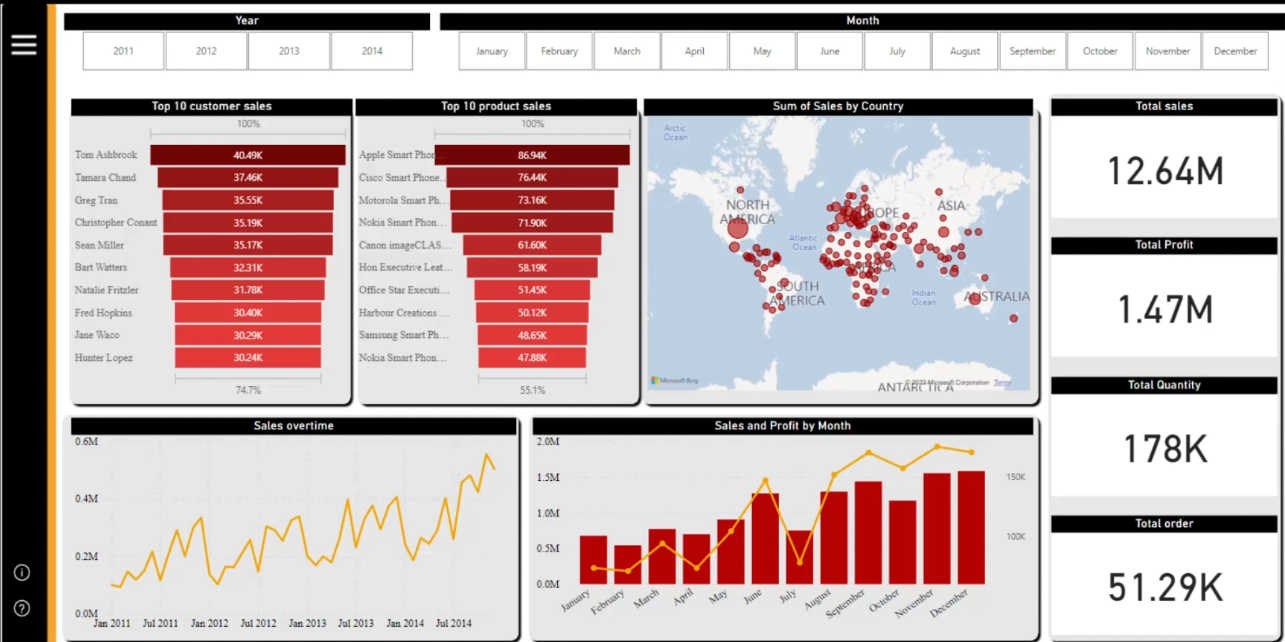

Layout of this report page (visuals, bound fields, positions):
{"tool":"powerbi","page":{"name":"Sales","canvas":[1800,900],"ordinal":0},"visuals":[{"type":"actionButton","box":[427.1,0,1372.9,900],"z":0,"group":"g2"},{"type":"actionButton","title":"Qs","box":[11.7,822,33.2,50.9],"z":0,"group":"g1"},{"type":"shape","box":[74.3,0,352.9,900],"z":1000,"group":"g2"},{"type":"actionButton","title":"Info","box":[11.7,771.1,33.2,50.9],"z":1000,"group":"g1"},{"type":"actionButton","title":"Menu Button","box":[7.1,27.1,47.1,59.5],"z":2000,"group":"g1"},{"type":"actionButton","title":"Product","box":[13.2,394,388.2,61.7],"z":2000,"group":"g2"},{"type":"shape","box":[77.1,568.6,654.3,331.4],"z":2000},{"type":"actionButton","title":"Location","box":[13.2,225.6,388.2,61.7],"z":3000,"group":"g2"},{"type":"shape","box":[731.4,568.6,728.6,331.4],"z":3000},{"type":"shape","box":[890,137.1,570,431.4],"z":4000},{"type":"actionButton","title":"Customer","box":[11.4,309.8,388.2,61.7],"z":4000,"group":"g2"},{"type":"actionButton","title":"Sales","box":[13.2,141.4,388.2,61.7],"z":5000,"group":"g2"},{"type":"lineChart","title":"Sales overtime","fields":{"Y":["Sum(FOrder.Sales)"],"Category":["DimDate.Order Date.Variation.Date Hierarchy.Year","DimDate.Order Date.Variation.Date Hierarchy.Quarter","DimDate.Order Date.Variation.Date Hierarchy.Month"]},"box":[97.1,580,624.3,304.3],"z":5000},{"type":"lineClusteredColumnComboChart","title":"Sales and Profit by Month","fields":{"Category":["DimDate.Order Date.Variation.Date Hierarchy.Month"],"Y":["Sum(FOrder.Sales)"],"Y2":["Sum(FOrder.Profit)"]},"box":[744.3,580,701.4,304.3],"z":6000},{"type":"map","fields":{"Size":["Sum(FOrder.Sales)"],"Category":["DimLocation.Country"]},"box":[900,132.9,545.7,414.3],"z":7000},{"type":"shape","box":[1460,118.6,340,781.4],"z":8000},{"type":"card","title":"Total sales","fields":{"Values":["Sum(FOrder.Sales)"]},"box":[1471.4,132.9,317.1,167.1],"z":9000},{"type":"card","title":"Total Profit","fields":{"Values":["Sum(FOrder.Profit)"]},"box":[1471.4,327.6,317.1,167.1],"z":10000},{"type":"card","title":"Total Quantity","fields":{"Values":["Sum(FOrder.Quantity)"]},"box":[1471.4,522.4,317.1,167.1],"z":11000},{"type":"card","title":"Total order","fields":{"Values":["CountNonNull(FOrder.Row ID)"]},"box":[1471.4,717.1,317.1,167.1],"z":12000},{"type":"shape","box":[491.4,137.1,408.6,431.4],"z":13000},{"type":"shape","box":[87.1,137.1,408.6,431.4],"z":14000},{"type":"funnel","title":"Top 10 product sales","fields":{"Category":["DimProduct.Product Name"],"Y":["Sum(FOrder.Sales)"]},"box":[495.7,132.9,394.3,422.9],"z":15000},{"type":"funnel","title":"Top 10 customer sales","fields":{"Category":["DimCustomer.Customer Name"],"Y":["Sum(FOrder.Sales)"]},"box":[97.1,132.9,394.3,422.9],"z":16000},{"type":"slicer","title":"Year","fields":{"Values":["DimDate.Order Date.Variation.Date Hierarchy.Year"]},"box":[87.1,12.9,512.9,87.1],"z":17000},{"type":"slicer","title":"Month","fields":{"Values":["DimDate.Order Date.Variation.Date Hierarchy.Month"]},"box":[614.3,12.9,1185.7,87.1],"z":18000},{"type":"group","id":"g1","title":"Menu Bar","box":[7.1,27.1,47.1,845.7],"z":18250},{"type":"group","id":"g2","title":"page","box":[11.4,0,1788.6,900],"z":18500}]}

Visuals, with their boxes in screenshot pixels (x1, y1, x2, y2), scaled from the page's 1800x900 canvas onto the 1285x642 screenshot:
actionButton: Rect(305, 0, 1284, 641)
"Qs" actionButton: Rect(8, 586, 32, 623)
shape: Rect(53, 0, 305, 641)
"Info" actionButton: Rect(8, 550, 32, 586)
"Menu Button" actionButton: Rect(5, 19, 39, 62)
"Product" actionButton: Rect(9, 281, 287, 325)
shape: Rect(55, 406, 522, 641)
"Location" actionButton: Rect(9, 161, 287, 205)
shape: Rect(522, 406, 1042, 641)
shape: Rect(635, 98, 1042, 406)
"Customer" actionButton: Rect(8, 221, 285, 265)
"Sales" actionButton: Rect(9, 101, 287, 145)
"Sales overtime" lineChart: Rect(69, 414, 515, 631)
"Sales and Profit by Month" lineClusteredColumnComboChart: Rect(531, 414, 1032, 631)
map - Sum(FOrder.Sales) x DimLocation.Country: Rect(642, 95, 1032, 390)
shape: Rect(1042, 85, 1284, 641)
"Total sales" card: Rect(1050, 95, 1277, 214)
"Total Profit" card: Rect(1050, 234, 1277, 353)
"Total Quantity" card: Rect(1050, 373, 1277, 492)
"Total order" card: Rect(1050, 512, 1277, 631)
shape: Rect(351, 98, 642, 406)
shape: Rect(62, 98, 354, 406)
"Top 10 product sales" funnel: Rect(354, 95, 635, 396)
"Top 10 customer sales" funnel: Rect(69, 95, 351, 396)
"Year" slicer: Rect(62, 9, 428, 71)
"Month" slicer: Rect(439, 9, 1284, 71)
"Menu Bar" group: Rect(5, 19, 39, 623)
"page" group: Rect(8, 0, 1284, 641)
